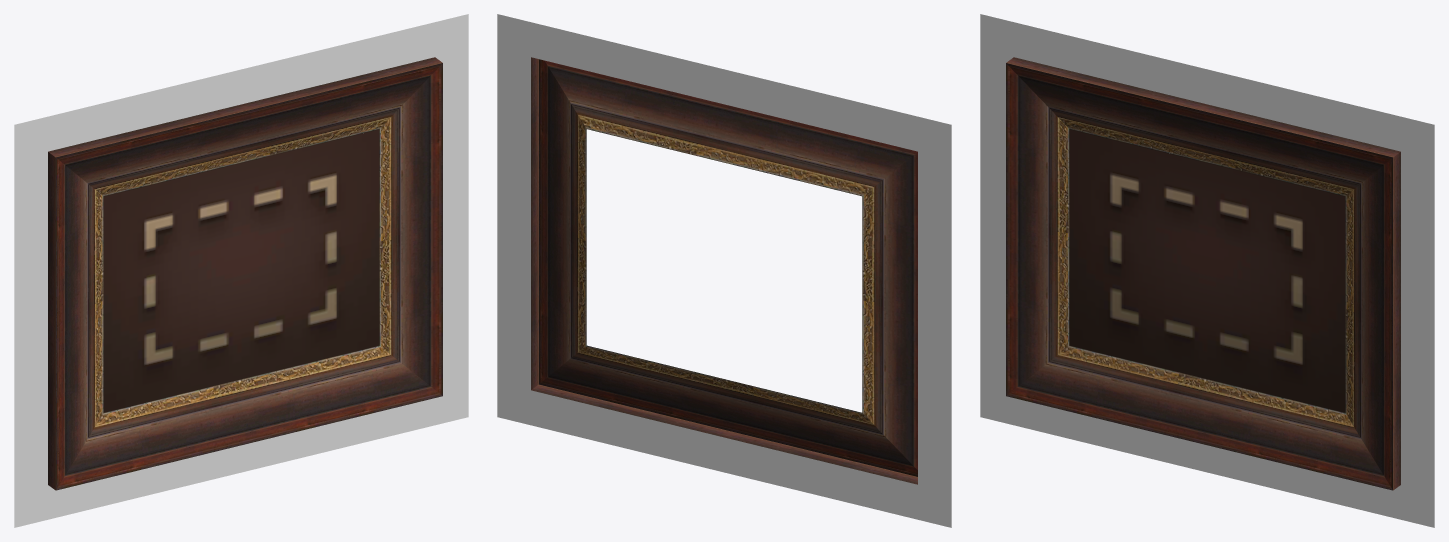
The model's file is Frame_07_Small.dae.
3 renders of one model, left to right at view 1: azimuth 30°, elevation 25°; view 2: azimuth 150°, elevation 25°; view 3: azimuth 330°, elevation 25°, orthographic.
Parts seen in each view (by area): view 1: Frame_07_Small (×3); view 2: Frame_07_Small (×2); view 3: Frame_07_Small (×3).
Boxes of the visible parts, <box> form: Frame_07_Small (×3): <box>14,14,468,527</box>; Frame_07_Small (×2): <box>497,14,951,527</box>; Frame_07_Small (×3): <box>980,14,1434,527</box>.
Bounding box in the file's own units: 272 × 231 × 8.27.
3 materials, 3 textured.
